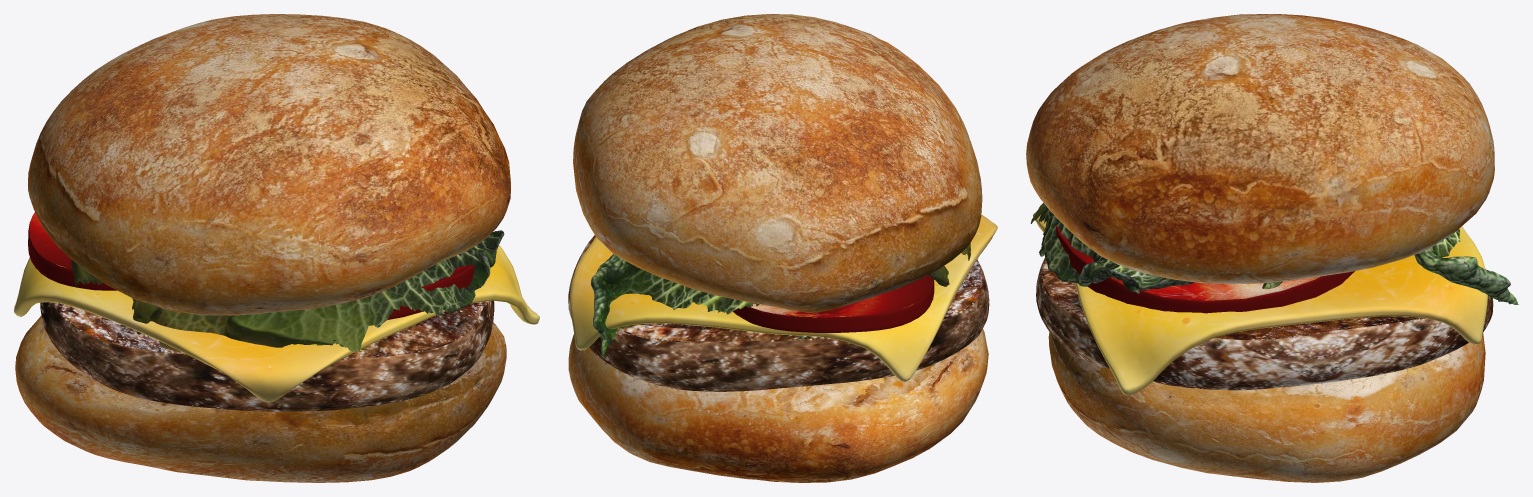
The model's file is burger-transformed.glb.
3 renders of one model, left to right at view 1: azimuth 30°, elevation 25°; view 2: azimuth 150°, elevation 25°; view 3: azimuth 270°, elevation 25°, orthographic. The views are drawn at different scales.
Parts seen in each view (by area): view 1: Bread2B_Bread2A_0, Patty2_PattyB_0, Cheese2_Cheese_0, Cabbage2_Cabbage2_0, Patty2_PattyA_0, Tomato003_Tomato_0, Tomato003_TomatoA_0; view 2: Bread2B_Bread2A_0, Patty2_PattyB_0, Cheese2_Cheese_0, Cabbage2_Cabbage2_0, Tomato003_Tomato_0, Patty2_PattyA_0, Tomato003_TomatoA_0; view 3: Bread2B_Bread2A_0, Cheese2_Cheese_0, Patty2_PattyB_0, Cabbage2_Cabbage2_0, Tomato003_Tomato_0, Patty2_PattyA_0, Tomato003_TomatoA_0.
Boxes of the visible parts, <box> form: Bread2B_Bread2A_0: <box>15,14,510,482</box>; Patty2_PattyB_0: <box>40,300,494,411</box>; Cheese2_Cheese_0: <box>14,245,539,402</box>; Cabbage2_Cabbage2_0: <box>71,230,504,354</box>; Patty2_PattyA_0: <box>54,301,485,358</box>; Tomato003_Tomato_0: <box>28,213,474,319</box>; Tomato003_TomatoA_0: <box>29,212,472,290</box>; Bread2B_Bread2A_0: <box>568,14,988,482</box>; Patty2_PattyB_0: <box>568,235,989,391</box>; Cheese2_Cheese_0: <box>569,214,997,382</box>; Cabbage2_Cabbage2_0: <box>591,243,970,357</box>; Tomato003_Tomato_0: <box>733,279,934,332</box>; Patty2_PattyA_0: <box>585,236,982,391</box>; Tomato003_TomatoA_0: <box>751,275,932,332</box>; Bread2B_Bread2A_0: <box>1026,14,1494,482</box>; Cheese2_Cheese_0: <box>1033,212,1487,395</box>; Patty2_PattyB_0: <box>1036,257,1493,390</box>; Cabbage2_Cabbage2_0: <box>1030,203,1518,339</box>; Tomato003_Tomato_0: <box>1056,225,1354,313</box>; Patty2_PattyA_0: <box>1042,261,1419,339</box>; Tomato003_TomatoA_0: <box>1057,227,1319,300</box>.
Size of the model in its own units: 27.96 by 25.28 by 29.54.
7 materials, 6 textured.
